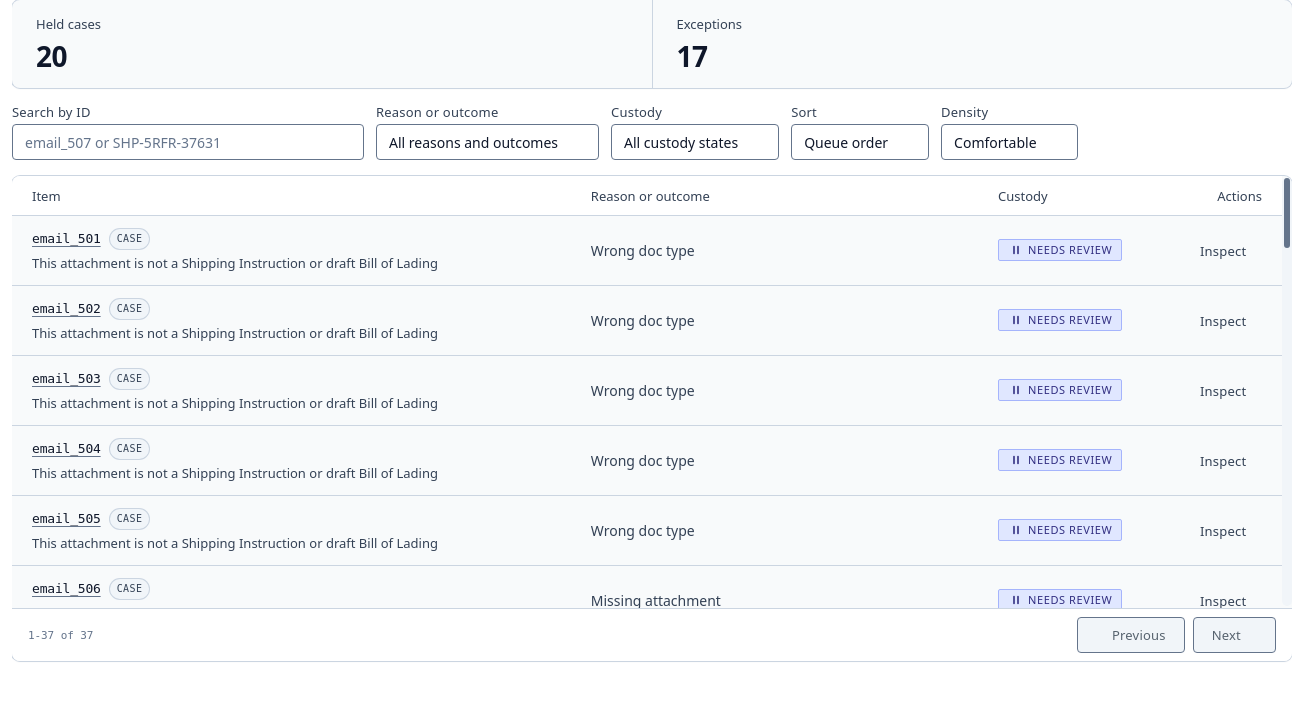
Test: ReviewQueueView › shows an honest empty state when the search matches nothing
The width and height of the screenshot is (1292, 720).
Type "zzz" into the search field labelled "Search by ID" at (174, 142), box [25, 125, 323, 159]
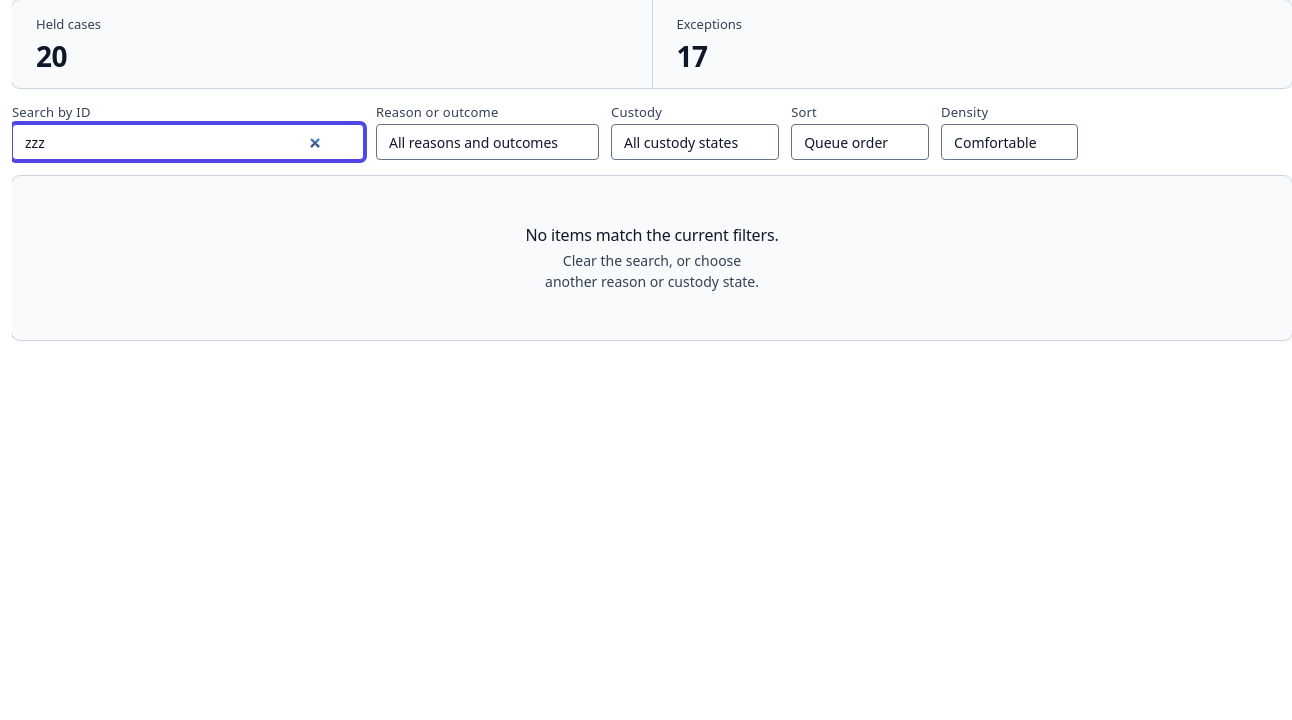
Expected: the text "No items match the current filters." is shown, [525, 224, 779, 246]
